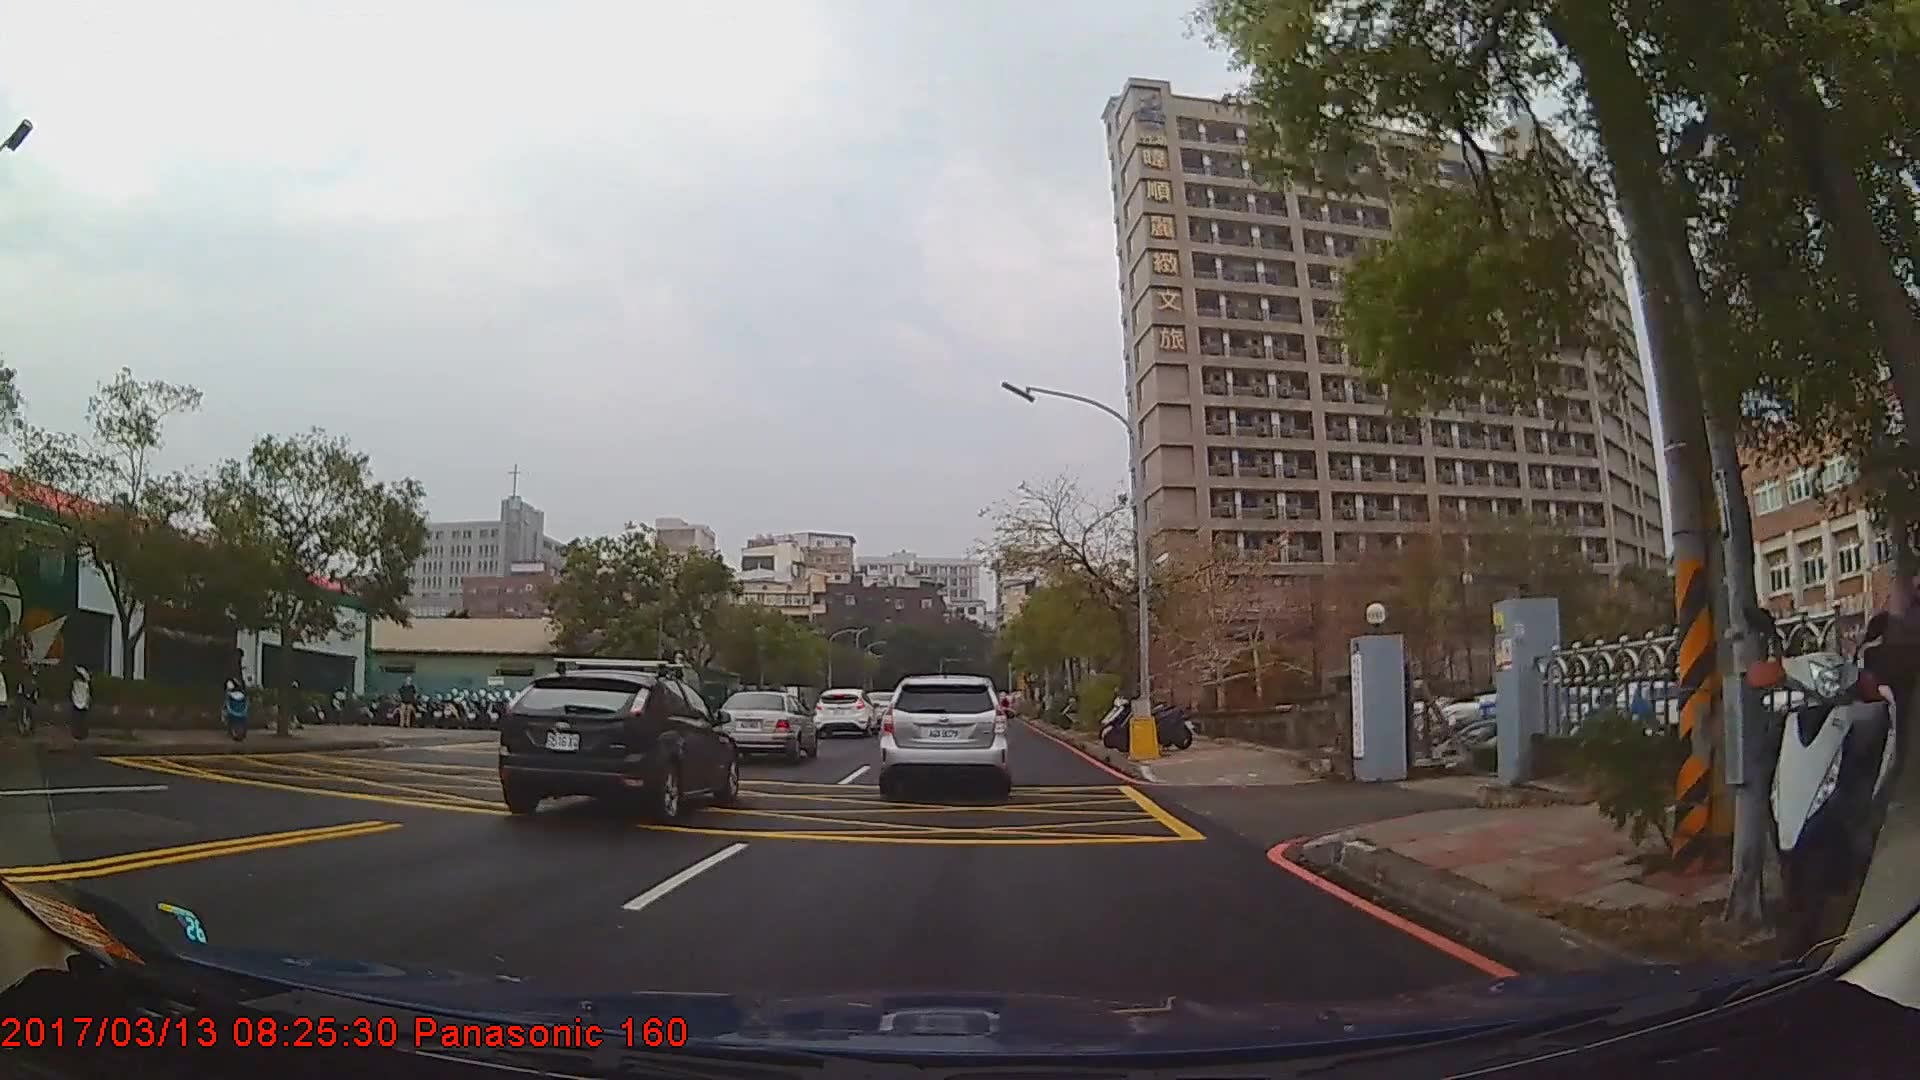pedestrian: (400, 678, 420, 730)
vehicle: (495, 667, 738, 819), (0, 503, 79, 720), (880, 673, 1008, 791), (715, 688, 817, 761), (813, 684, 879, 735)
